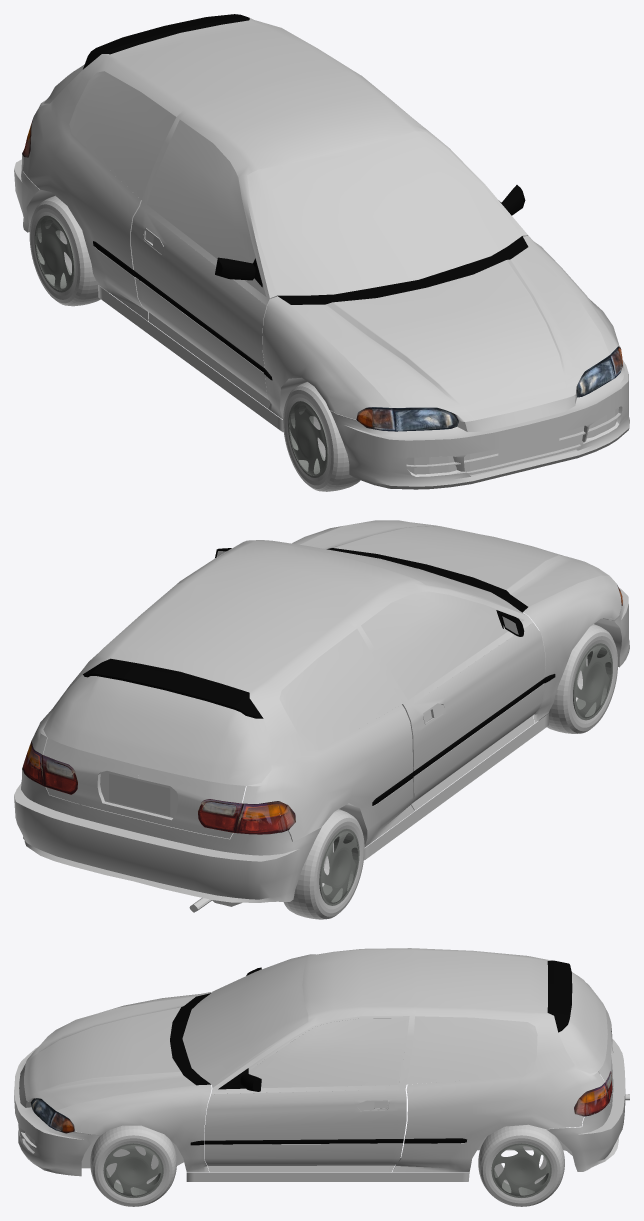
File: CivicEg6_FreeToBlend.obj
3 renders of one model, top to bottom at view 1: azimuth 30°, elevation 25°; view 2: azimuth 150°, elevation 25°; view 3: azimuth 270°, elevation 25°, orthographic. The views are drawn at different scales.
Visible parts, largest first — view 1: mainbody_Plane.001, frontbumper.001_Plane.013, mainbody.001_Plane.004, frontbumper_Plane.002, front_fender_Plane.007, mainbody.002_Plane.010, mainbody.003_Plane.011, Circle.003, Circle.002, mainbody.005_Plane.019, frontbumper.005_Plane.023, sideskirt_Plane.006 (+7 smaller); view 2: mainbody_Plane.001, rear_bumper_Plane.008, trunk.001_Plane.012, frontbumper.001_Plane.013, mainbody.002_Plane.010, mainbody.003_Plane.011, trunk_Plane.009, front_fender_Plane.007, Circle.003, Circle.002, mainbody.004_Plane.017, spoiler_Plane.005 (+6 smaller); view 3: mainbody_Plane.001, frontbumper.001_Plane.013, mainbody.001_Plane.004, mainbody.002_Plane.010, mainbody.003_Plane.011, front_fender_Plane.007, Circle.001, Circle, frontbumper_Plane.002, rear_bumper_Plane.008, trunk.001_Plane.012, sideskirt_Plane.006 (+9 smaller).
Boxes of the visible parts, left/top/right/bottom form: mainbody_Plane.001: left=22, top=18, right=528, bottom=408; frontbumper.001_Plane.013: left=291, top=247, right=609, bottom=421; mainbody.001_Plane.004: left=247, top=131, right=521, bottom=295; frontbumper_Plane.002: left=330, top=359, right=629, bottom=489; front_fender_Plane.007: left=262, top=236, right=620, bottom=419; mainbody.002_Plane.010: left=146, top=119, right=266, bottom=296; mainbody.003_Plane.011: left=69, top=71, right=176, bottom=199; Circle.003: left=29, top=195, right=100, bottom=306; Circle.002: left=283, top=382, right=360, bottom=491; mainbody.005_Plane.019: left=277, top=236, right=528, bottom=304; frontbumper.005_Plane.023: left=405, top=407, right=618, bottom=475; sideskirt_Plane.006: left=98, top=285, right=283, bottom=432; mainbody_Plane.001: left=31, top=540, right=545, bottom=847; rear_bumper_Plane.008: left=14, top=769, right=321, bottom=902; trunk.001_Plane.012: left=43, top=674, right=271, bottom=785; frontbumper.001_Plane.013: left=300, top=520, right=609, bottom=606; mainbody.002_Plane.010: left=361, top=591, right=524, bottom=700; mainbody.003_Plane.011: left=93, top=629, right=402, bottom=749; trunk_Plane.009: left=43, top=738, right=245, bottom=838; front_fender_Plane.007: left=292, top=526, right=621, bottom=723; Circle.003: left=283, top=809, right=364, bottom=919; Circle.002: left=536, top=624, right=617, bottom=733; mainbody.004_Plane.017: left=22, top=741, right=295, bottom=834; spoiler_Plane.005: left=83, top=658, right=263, bottom=718; mainbody_Plane.001: left=204, top=948, right=604, bottom=1172; frontbumper.001_Plane.013: left=24, top=996, right=195, bottom=1110; mainbody.001_Plane.004: left=182, top=955, right=308, bottom=1084; mainbody.002_Plane.010: left=248, top=1016, right=409, bottom=1086; mainbody.003_Plane.011: left=406, top=1016, right=537, bottom=1084; front_fender_Plane.007: left=56, top=992, right=211, bottom=1172; Circle.001: left=478, top=1124, right=564, bottom=1206; Circle: left=90, top=1125, right=176, bottom=1206; frontbumper_Plane.002: left=14, top=1047, right=100, bottom=1176; rear_bumper_Plane.008: left=546, top=1039, right=625, bottom=1171; trunk.001_Plane.012: left=558, top=972, right=607, bottom=1073; sideskirt_Plane.006: left=186, top=1172, right=469, bottom=1181.
Bounding box in the file's own units: 3.64 × 2.66 × 8.2.
